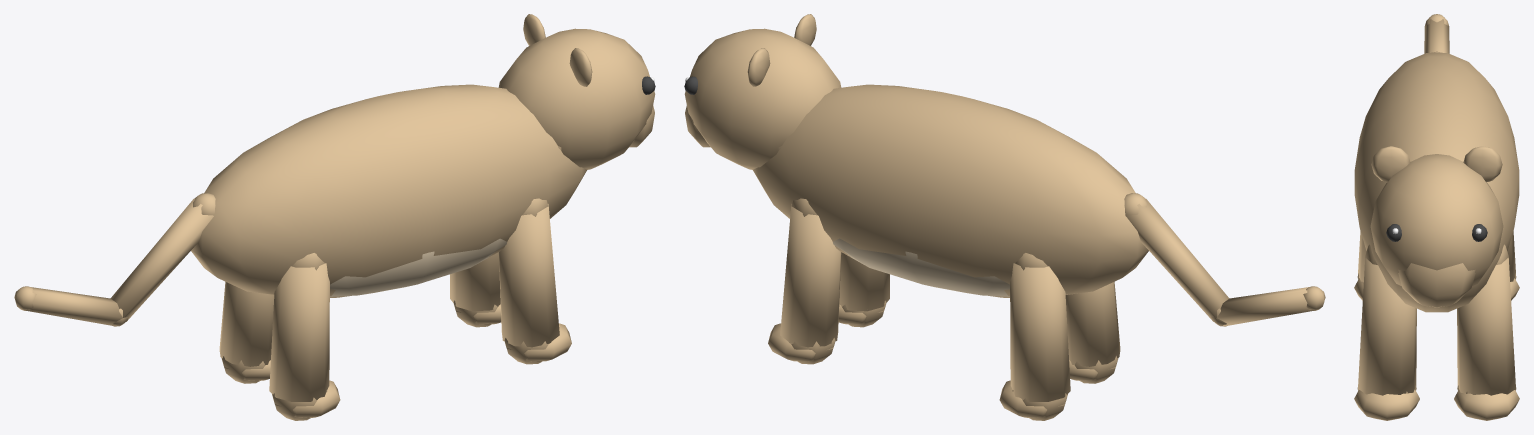
Rendered from kinkajou.glb.
3 views of the same model, side by side, from view 1: azimuth 30°, elevation 25°; view 2: azimuth 150°, elevation 25°; view 3: azimuth 270°, elevation 25° (orthographic).
Parts seen in each view (by area): view 1: e, e.016, e.008, e.002, e.025, e.011, e.005; view 2: e, e.016, e.011, e.005, e.025, e.008, e.002; view 3: e.016, e, e.002, e.005, e.025, e.011, e.008.
Part boxes in pixels (x1=…): e: x1=191, y1=84, x2=586, y2=297; e.016: x1=498, y1=14, x2=655, y2=169; e.008: x1=269, y1=253, x2=340, y2=420; e.002: x1=498, y1=198, x2=571, y2=364; e.025: x1=14, y1=193, x2=215, y2=326; e.011: x1=219, y1=281, x2=274, y2=383; e.005: x1=450, y1=252, x2=501, y2=327; e: x1=753, y1=84, x2=1148, y2=297; e.016: x1=684, y1=14, x2=841, y2=169; e.011: x1=999, y1=253, x2=1070, y2=420; e.005: x1=768, y1=198, x2=841, y2=364; e.025: x1=1124, y1=193, x2=1325, y2=326; e.008: x1=1065, y1=281, x2=1120, y2=383; e.002: x1=838, y1=252, x2=889, y2=327; e.016: x1=1370, y1=146, x2=1503, y2=307; e: x1=1354, y1=53, x2=1519, y2=312; e.002: x1=1354, y1=244, x2=1419, y2=420; e.005: x1=1454, y1=244, x2=1519, y2=420; e.025: x1=1424, y1=14, x2=1449, y2=53; e.011: x1=1507, y1=231, x2=1519, y2=300; e.008: x1=1354, y1=231, x2=1366, y2=300.
Bounding box in the file's own units: 0.9505 × 0.4288 × 0.2195.
